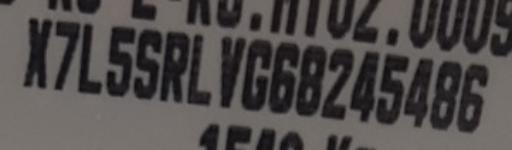letter: (319, 46, 355, 118), (374, 51, 410, 122), (293, 43, 327, 112), (401, 56, 435, 125), (268, 40, 302, 108), (428, 59, 462, 127), (350, 48, 380, 120), (188, 31, 216, 108), (244, 35, 272, 112), (458, 61, 490, 128), (104, 23, 132, 97), (52, 16, 78, 94), (135, 24, 161, 101), (21, 15, 49, 86), (217, 35, 243, 107), (80, 20, 104, 94), (161, 27, 185, 101)
